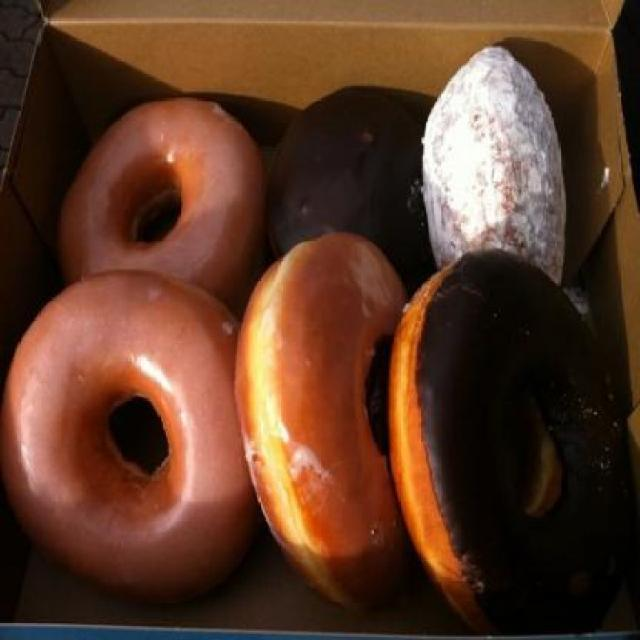Donuts: (7, 44, 624, 638)
